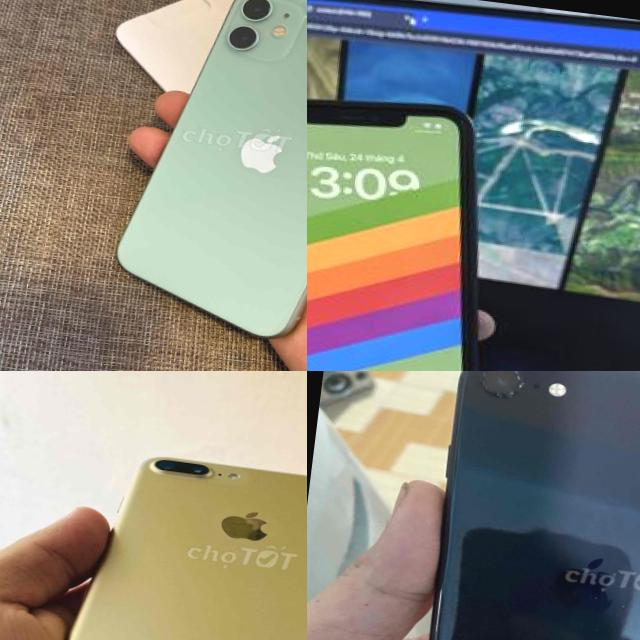gen_11: (98, 0, 307, 356), (307, 98, 475, 371)
gen_7_8: (391, 371, 640, 640), (66, 457, 307, 640)
